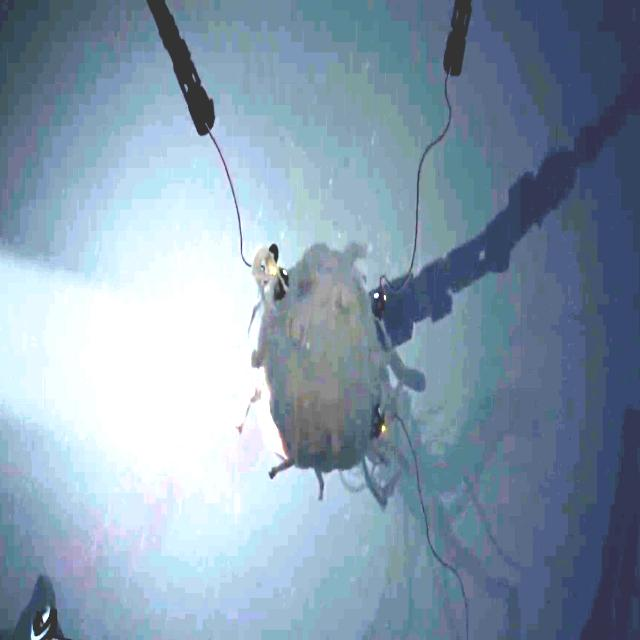blob: (233, 242, 392, 502)
boy: (248, 240, 279, 330)
interactible: (27, 596, 58, 640), (267, 265, 289, 303), (370, 401, 386, 442), (374, 280, 389, 321)
mechanism: (375, 43, 640, 342), (556, 366, 640, 640), (145, 0, 214, 138), (0, 579, 81, 640), (444, 0, 474, 76)
